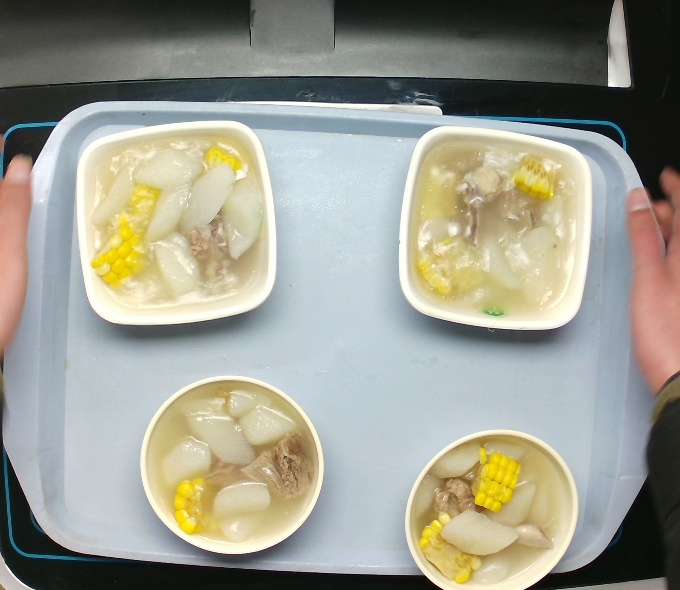wcq-ShanYaoYuMiTang: (79, 124, 267, 319), (404, 131, 586, 323), (143, 378, 319, 549), (406, 432, 577, 590)
